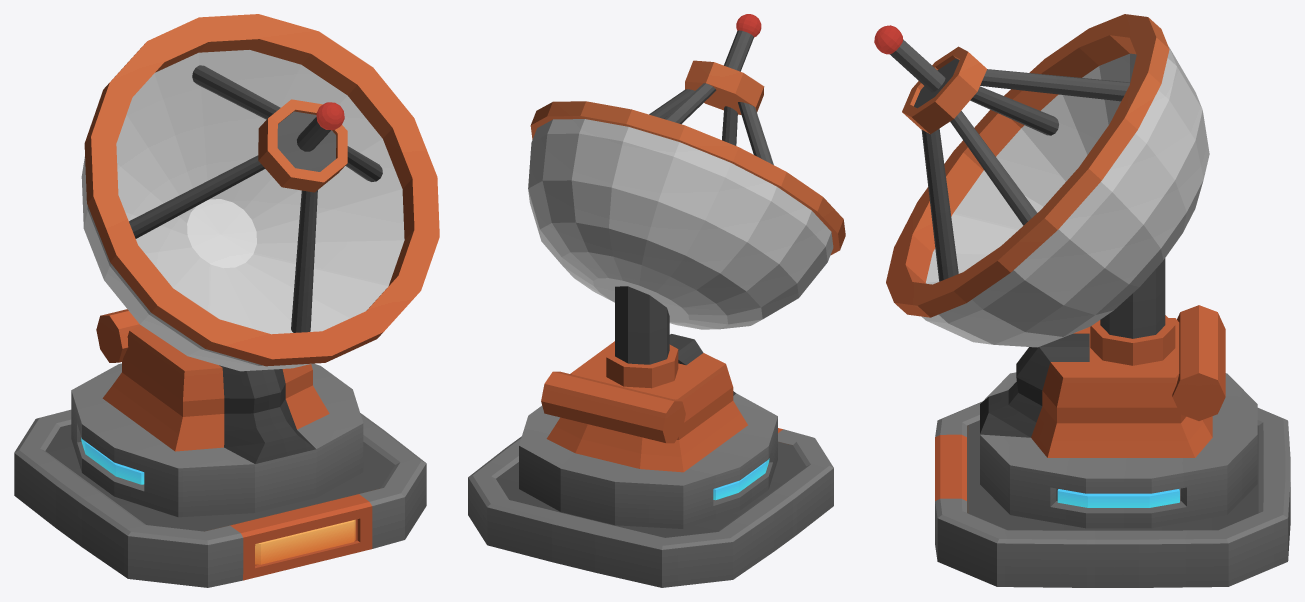
Rendered from SatelliteDish.glb.
The picture shows the model from 3 angles, left to right: view 1: azimuth 30°, elevation 25°; view 2: azimuth 150°, elevation 25°; view 3: azimuth 270°, elevation 25°; orthographic projection. The views are drawn at different scales.
Parts seen in each view (by area): view 1: SatelliteDish; view 2: SatelliteDish; view 3: SatelliteDish.
Part boxes in pixels (left/top/right/bottom): SatelliteDish: left=14, top=14, right=439, bottom=587; SatelliteDish: left=468, top=14, right=845, bottom=587; SatelliteDish: left=874, top=14, right=1290, bottom=587.
Bounding box in the file's own units: 19.92 × 28.35 × 22.
Materials: 2 (2 with a texture image).
